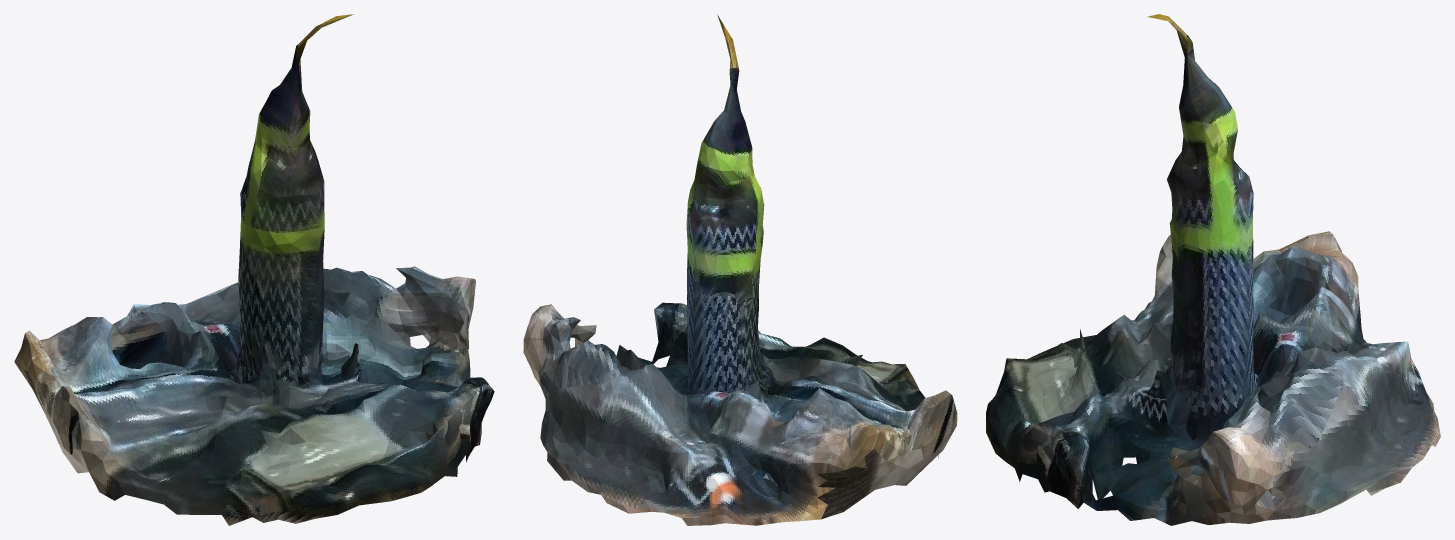
File: 1024-bridge.glb
3 renders of one model, left to right at view 1: azimuth 30°, elevation 25°; view 2: azimuth 150°, elevation 25°; view 3: azimuth 270°, elevation 25°, orthographic. The views are drawn at different scales.
Visible parts, largest first — view 1: Mesh_0; view 2: Mesh_0; view 3: Mesh_0.
Part boxes in pixels (box(x1,y1,x2,y2)): Mesh_0: box(14, 14, 494, 525); Mesh_0: box(523, 14, 957, 525); Mesh_0: box(986, 14, 1440, 525).
Bounding box in the file's own units: 0.4106 × 0.3908 × 0.3612.
Materials: 1 (1 with a texture image).
